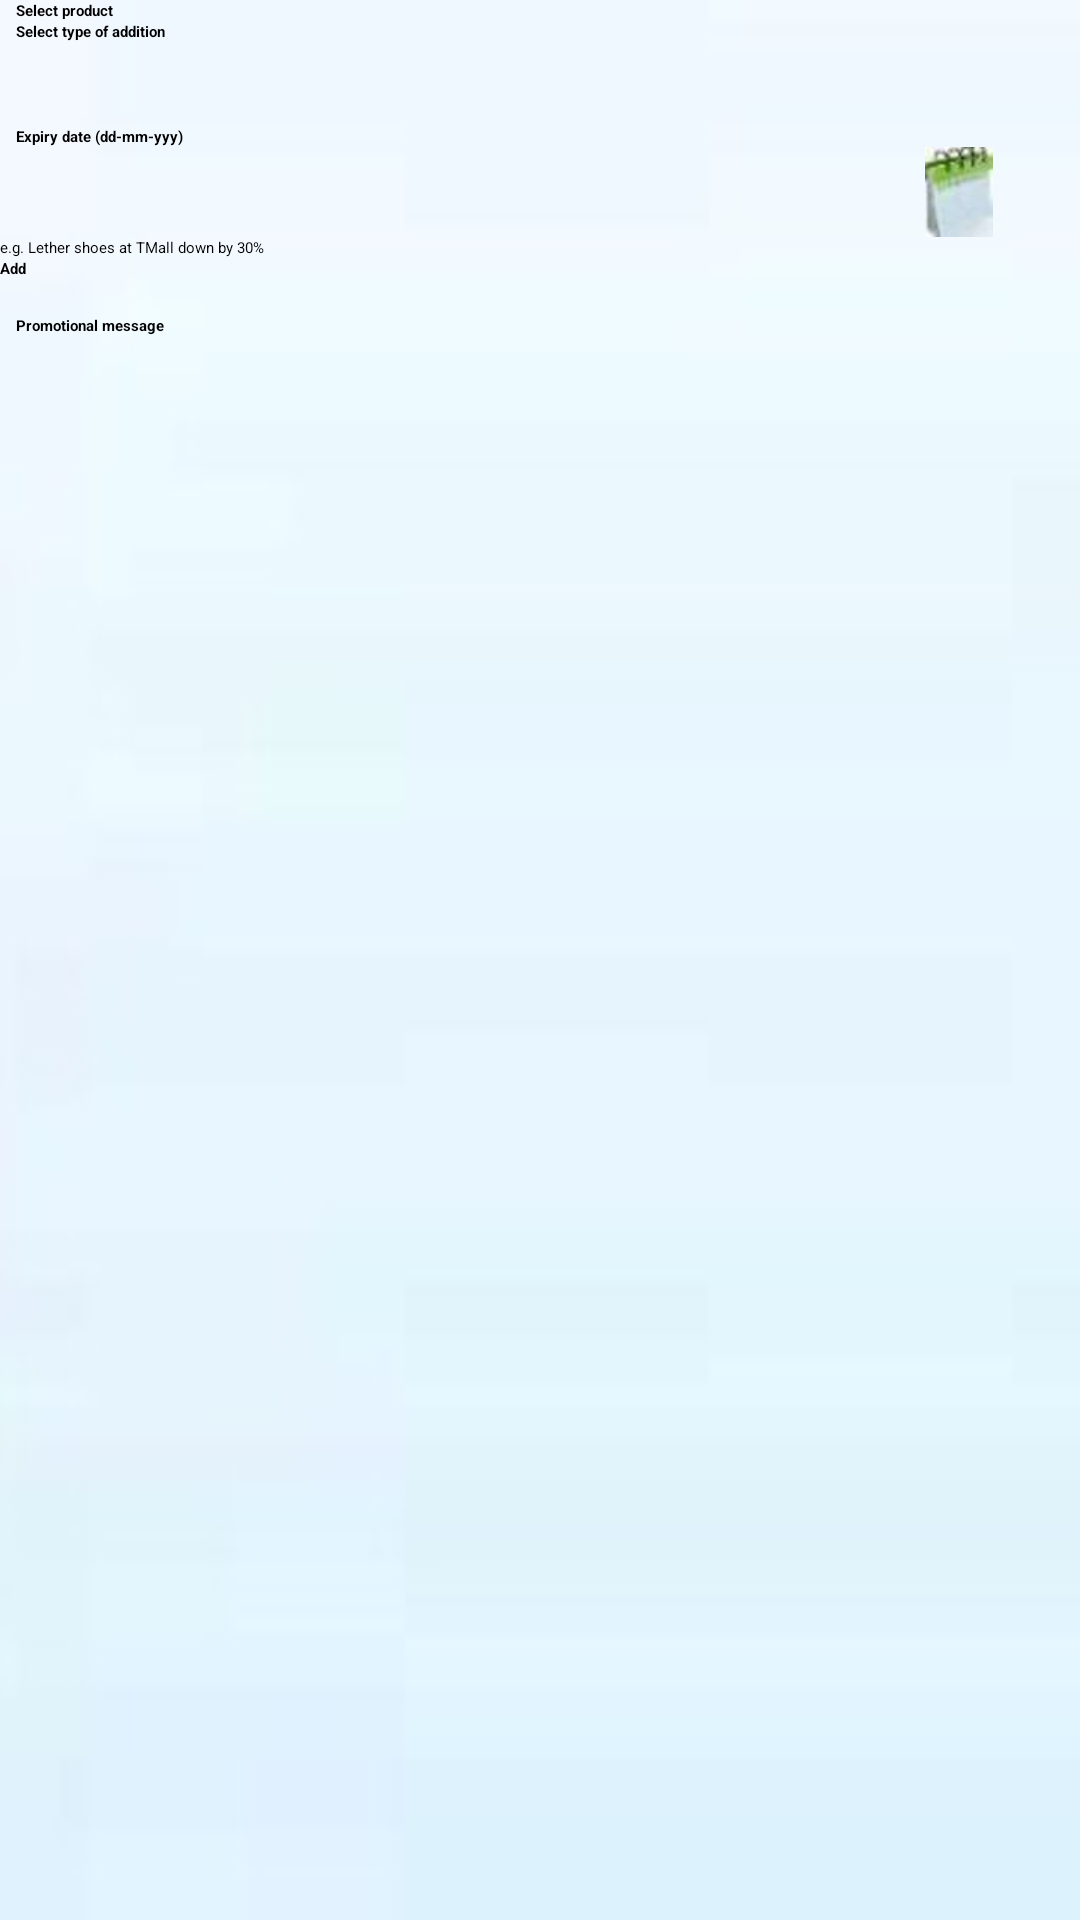

Screen size 1080px x 1920px. Icon name, then its box in pixels as (x1, y1, x2, y2):
calender: (925, 147, 993, 237)
